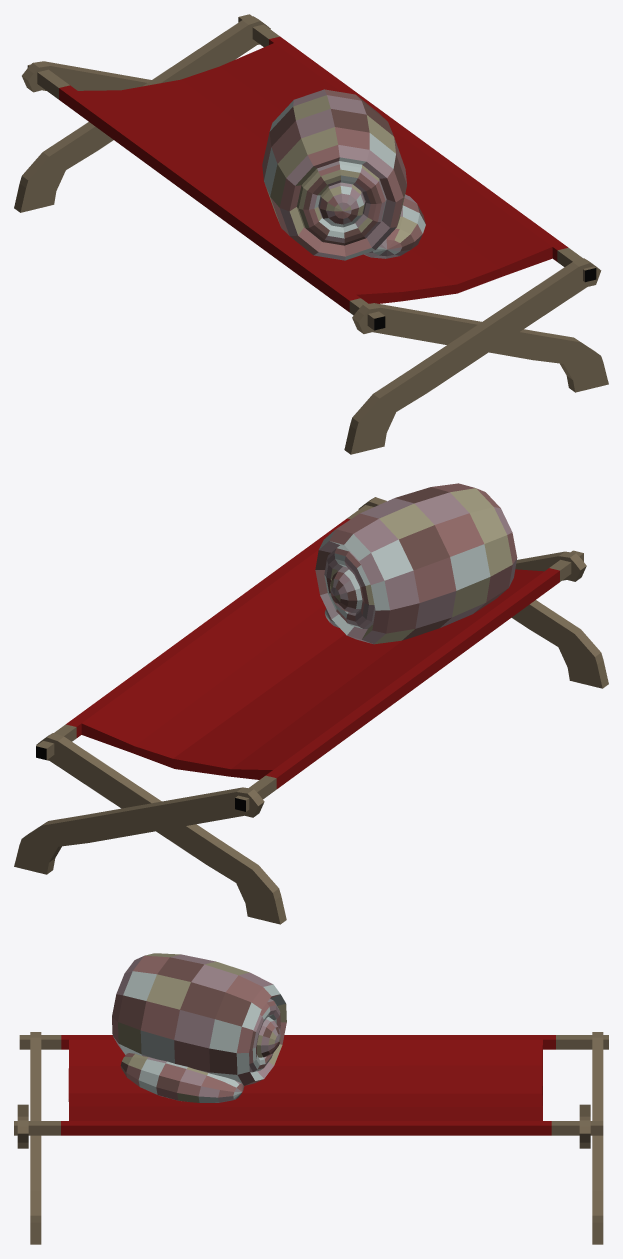
Rendered from Sleeping_cot_red.glb.
3 renders of one model, top to bottom at view 1: azimuth 30°, elevation 25°; view 2: azimuth 150°, elevation 25°; view 3: azimuth 270°, elevation 25°, orthographic. The views are drawn at different scales.
Visible parts, largest first — view 1: group525752226, group1041837734, group1224999123, group802491558, group1037513086, group2041126463, group499535218, group215986146, group1577345827, group559781611, group2051142577; view 2: group525752226, group1041837734, group1577345827, group2041126463, group802491558, group215986146, group1224999123, group955491185, group911579974, group1037513086; view 3: group525752226, group1041837734, group215986146, group559781611, group802491558, group1577345827, group1037513086, group955491185, group911579974, group2041126463, group1224999123.
Boxes of the visible parts, x1,y1,x2,y2 form: group525752226: (78, 43, 552, 303); group1041837734: (262, 89, 406, 260); group1224999123: (344, 258, 601, 454); group802491558: (27, 64, 385, 330); group1037513086: (352, 303, 608, 392); group2041126463: (14, 16, 270, 212); group499535218: (296, 161, 386, 245); group215986146: (238, 14, 596, 282); group1577345827: (22, 61, 151, 92); group559781611: (364, 194, 425, 258); group2051142577: (318, 182, 364, 227); group525752226: (81, 550, 543, 779); group1041837734: (315, 483, 517, 644); group1577345827: (14, 787, 264, 874); group2041126463: (36, 733, 286, 924); group802491558: (235, 550, 583, 811); group215986146: (36, 505, 373, 760); group1224999123: (358, 497, 608, 688); group955491185: (324, 545, 375, 628); group911579974: (330, 566, 362, 612); group1037513086: (515, 551, 586, 581); group525752226: (68, 1039, 542, 1120); group1041837734: (112, 953, 286, 1085); group215986146: (14, 1121, 603, 1135); group559781611: (120, 1053, 244, 1102); group802491558: (19, 1035, 608, 1049); group1577345827: (592, 1032, 603, 1244); group1037513086: (30, 1032, 41, 1244); group955491185: (249, 998, 280, 1072); group911579974: (256, 1017, 280, 1057); group2041126463: (579, 1104, 590, 1148); group1224999123: (17, 1104, 28, 1148).
Bounding box in the file's own units: 0.4737 × 0.4162 × 1.08.
